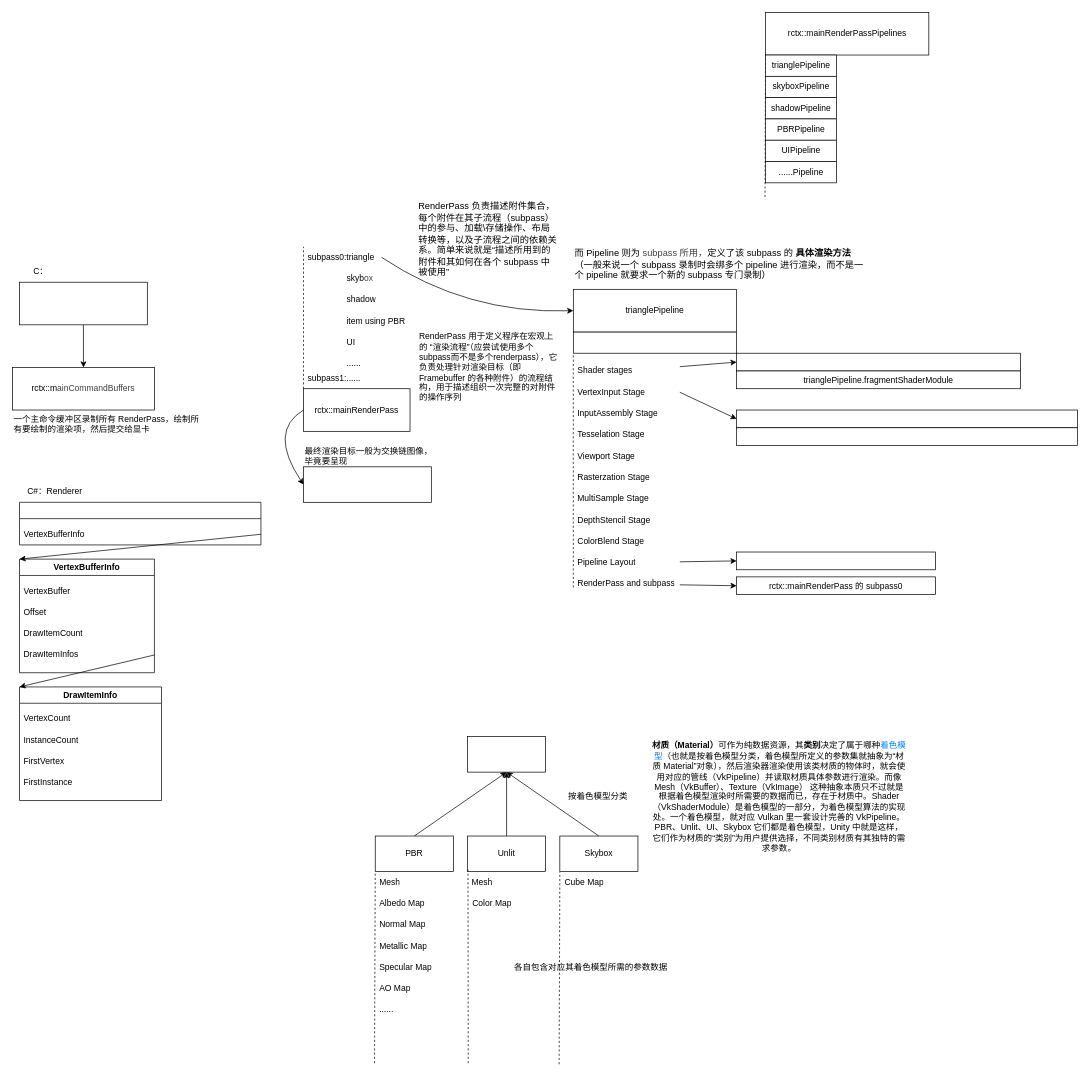
Some shapes in this 1090 by 1078 pixel diagram are drawn without their labels. The box of each missing label's shape, as (x1, y1, x2, y2) in pixels:
MainRenderPassPipeline0DrawInfo: (19, 502, 261, 545)
Material: (467, 736, 546, 772)
rctx::mainThreadCommandPool: (19, 282, 147, 325)
rctx::swapchainFramebuffers: (303, 466, 431, 502)
renderer_data_structs::VertexData.get_vertex_data_input_attribute_descriptions(): (736, 427, 1077, 446)
renderer_data_structs::VertexData.get_vertex_data_input_binding_description(): (736, 409, 1077, 428)
trianglePipeline . vertexShaderModule: (736, 353, 1021, 371)
trianglePipeline .pipeline: (573, 331, 737, 353)
trianglePipeline .pipelineLayout: (736, 551, 935, 570)
